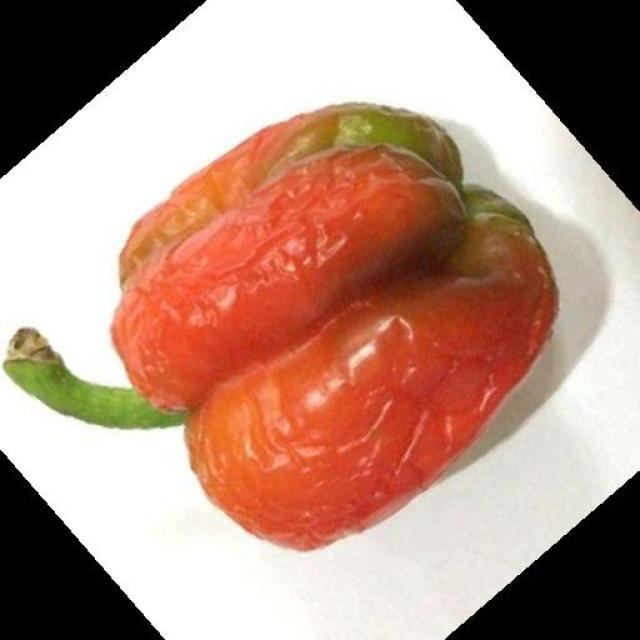Stale_Capsicum: (23, 114, 535, 487)
